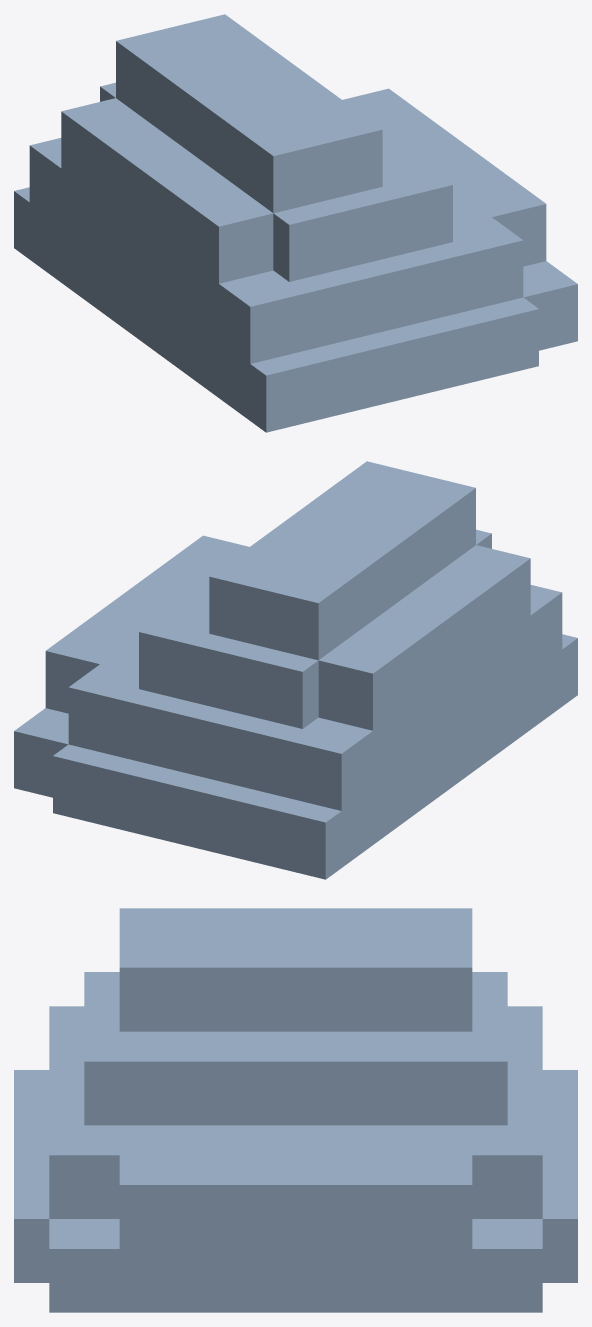
Rendered from stone-01.obj.
3 views of the same model, one above another, from view 1: azimuth 30°, elevation 25°; view 2: azimuth 150°, elevation 25°; view 3: azimuth 270°, elevation 25° (orthographic). The views are drawn at different scales.
Bounding box in the file's own units: 6 × 4 × 8.
1 material, 1 textured.
